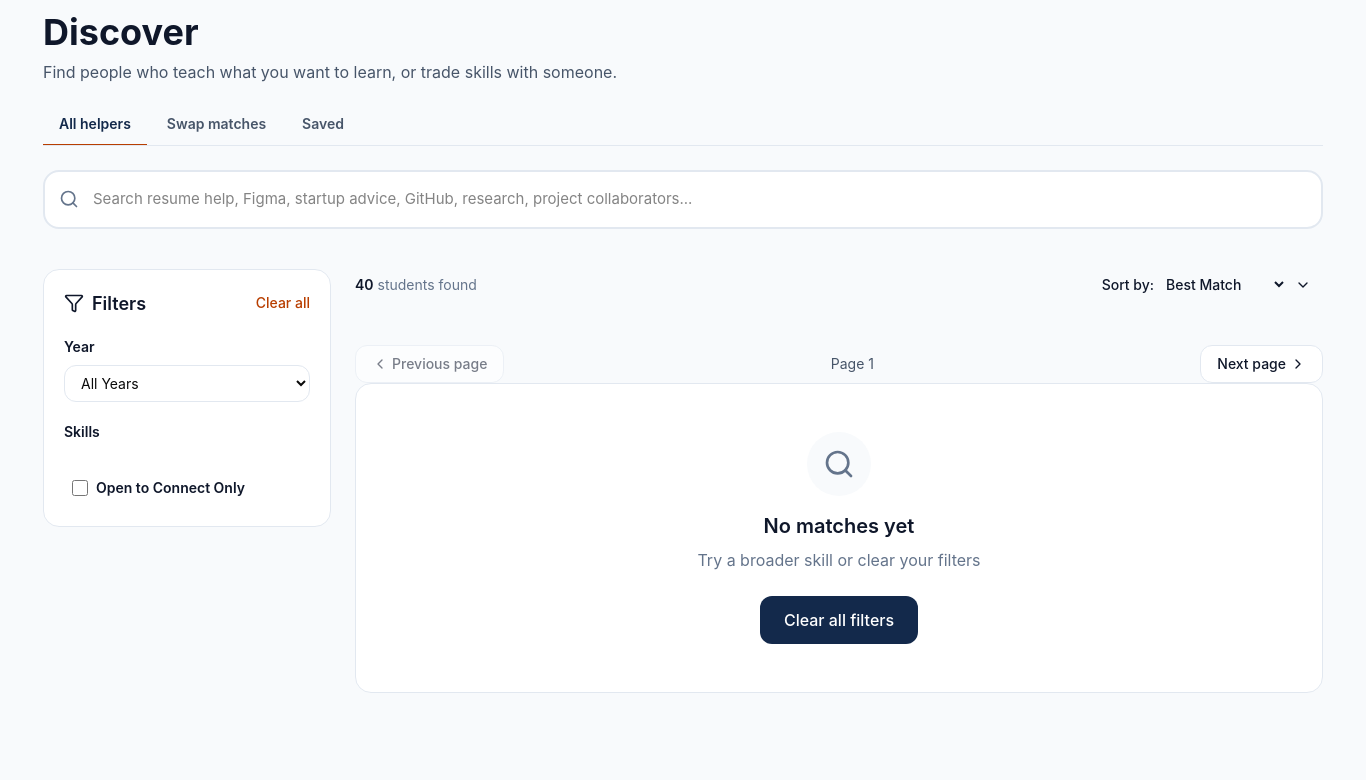
Test case: returns to page 1 once a new search settles
Click the button "Next page" at (1262, 364), box [1200,344,1323,382]
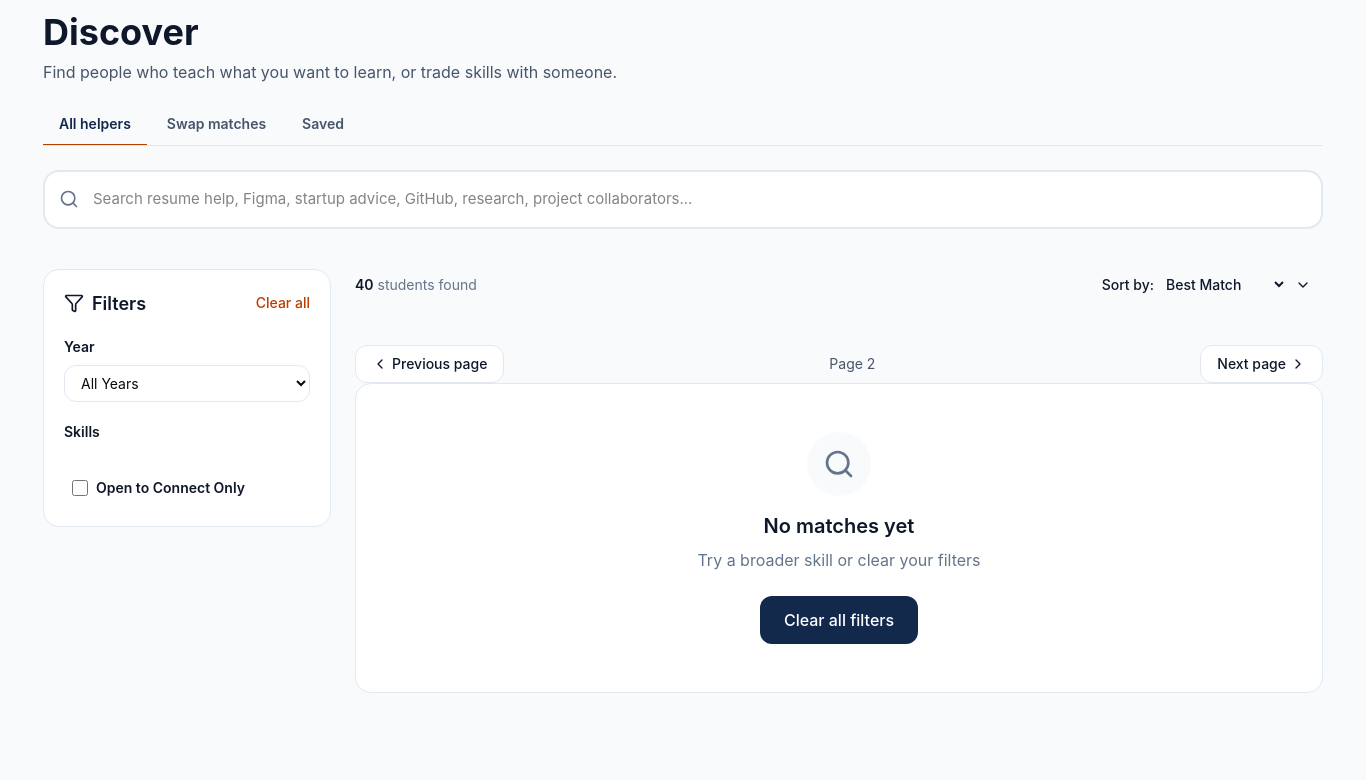
Replace the text in the field named "Search helpers" with "Figma" at (683, 199), box [43,170,1323,228]
Wait 300 ms
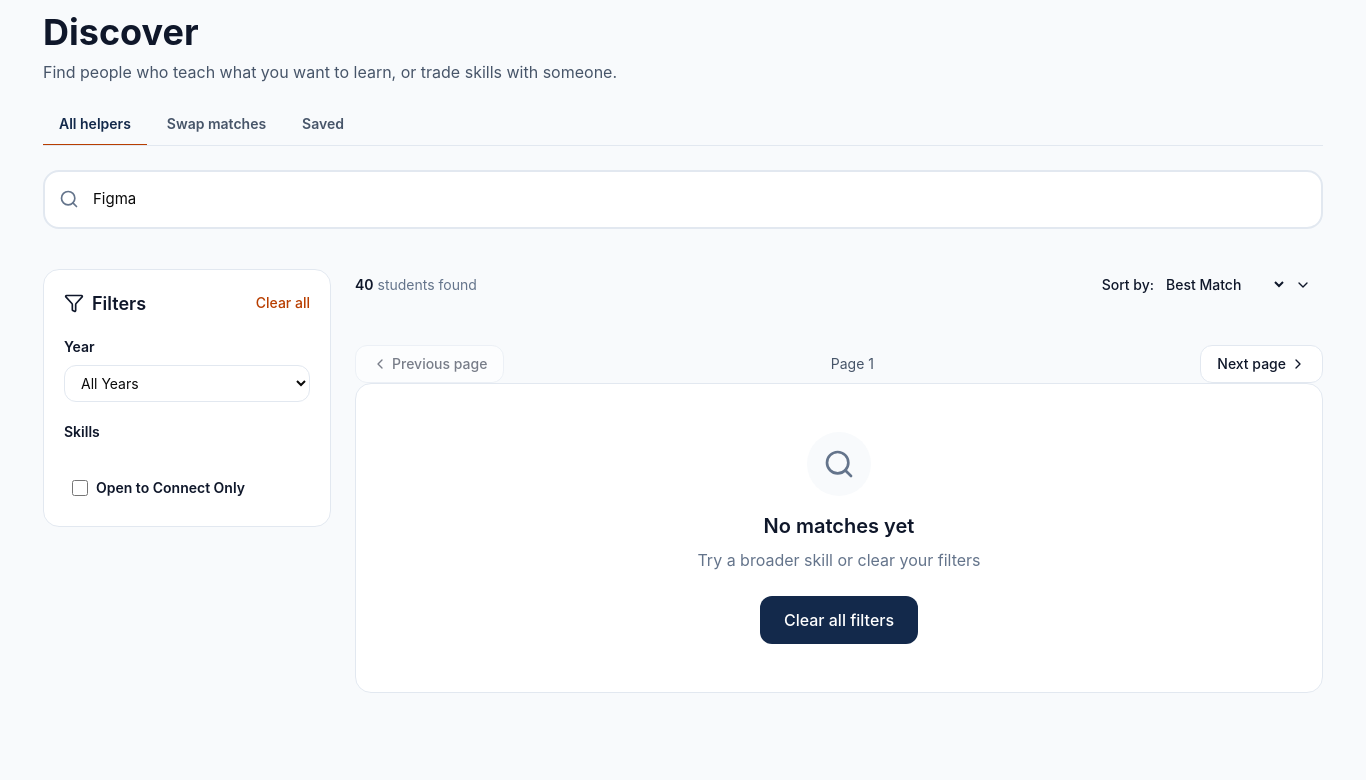
Check: the text "Page 1" is shown, box [831,354,874,374]
